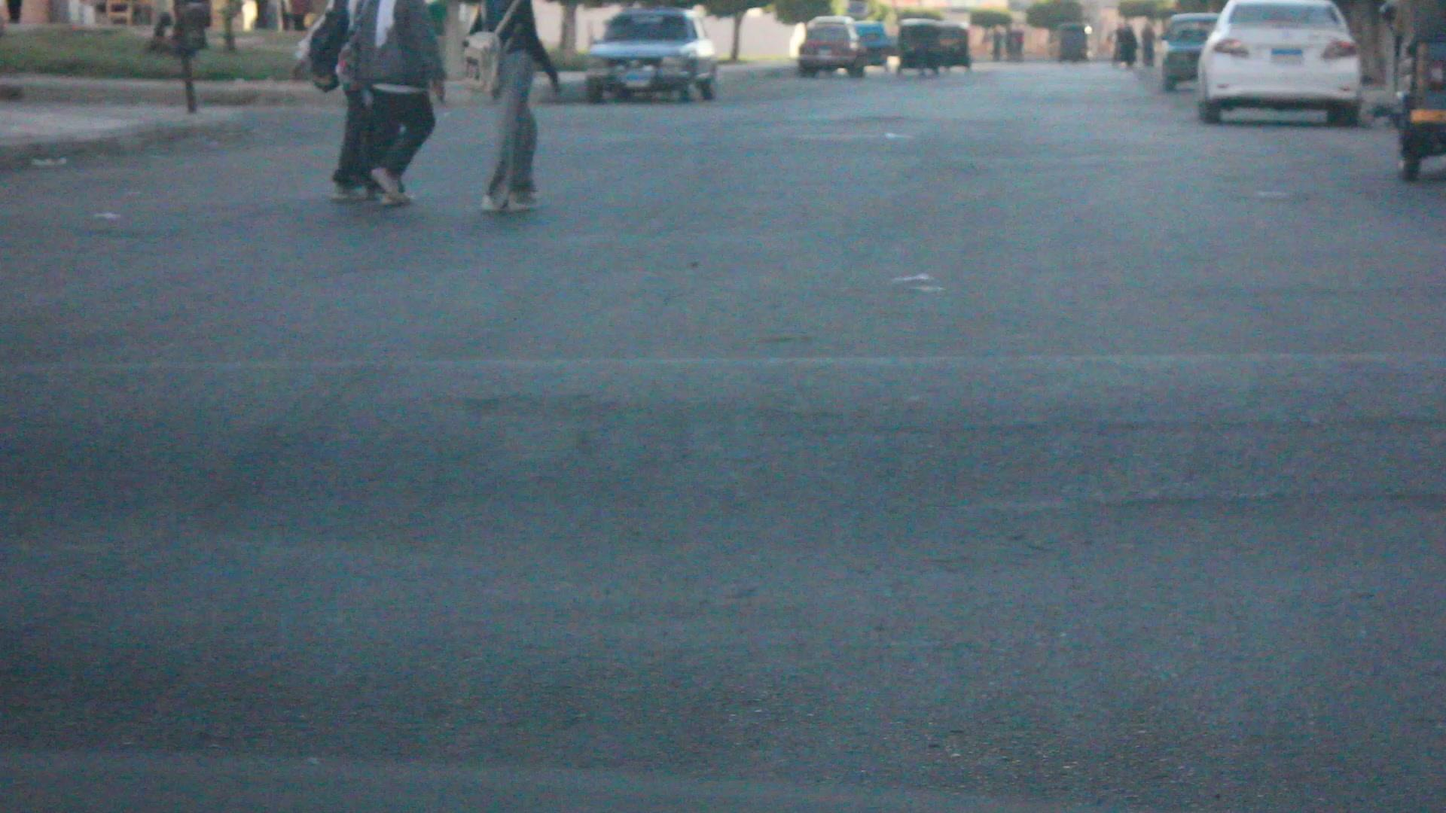Bump: (4, 352, 1446, 785)
